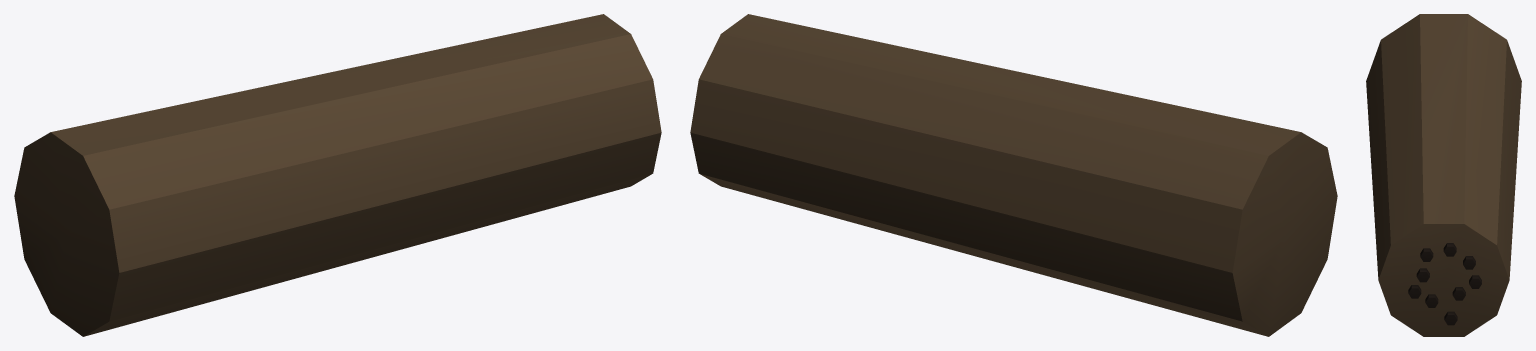
The model's file is struct_native_bee_log.glb.
3 views of the same model, side by side, from view 1: azimuth 30°, elevation 25°; view 2: azimuth 150°, elevation 25°; view 3: azimuth 270°, elevation 25° (orthographic). The views are drawn at different scales.
Visible parts, largest first — view 1: log; view 2: log; view 3: log, holes.
Part boxes in pixels (x1=…): log: x1=14, y1=14, x2=661, y2=336; log: x1=690, y1=14, x2=1337, y2=336; log: x1=1366, y1=14, x2=1521, y2=336; holes: x1=1408, y1=243, x2=1481, y2=325.
Size of the model in its own units: 1.17 by 0.3614 by 0.38.
